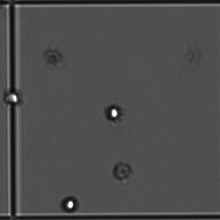Dead Cell: (42, 47, 66, 71), (111, 158, 134, 182)
Living Cell: (103, 100, 127, 123), (59, 194, 81, 213), (3, 88, 22, 109)
